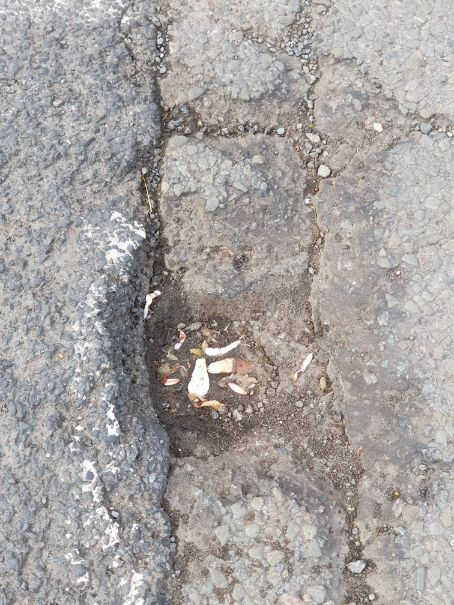pothole: (100, 81, 366, 487)
